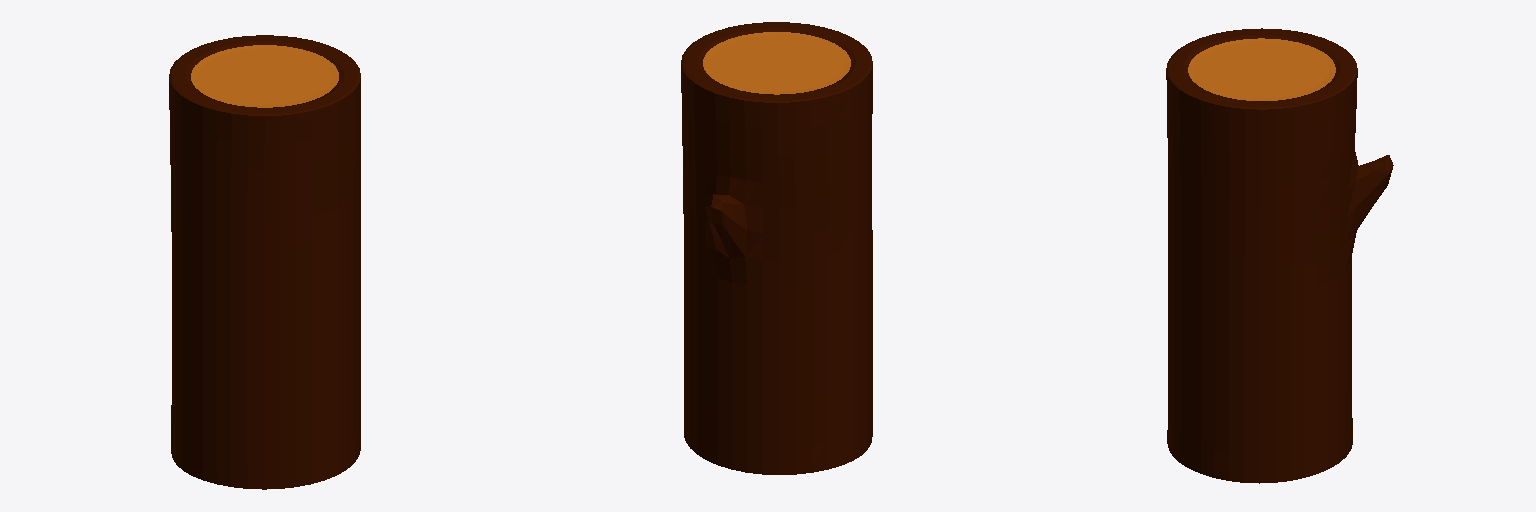
The model's file is Log2.obj.
3 views of the same model, side by side, from view 1: azimuth 30°, elevation 25°; view 2: azimuth 150°, elevation 25°; view 3: azimuth 270°, elevation 25° (orthographic).
Parts seen in each view (by area): view 1: Cylinder004; view 2: Cylinder004; view 3: Cylinder004.
Part boxes in pixels (x1,y1,x2,y2): Cylinder004: (169,35,360,489); Cylinder004: (681,22,872,474); Cylinder004: (1166,28,1393,483).
Bounding box in the file's own units: 21.36 × 46.09 × 25.28.